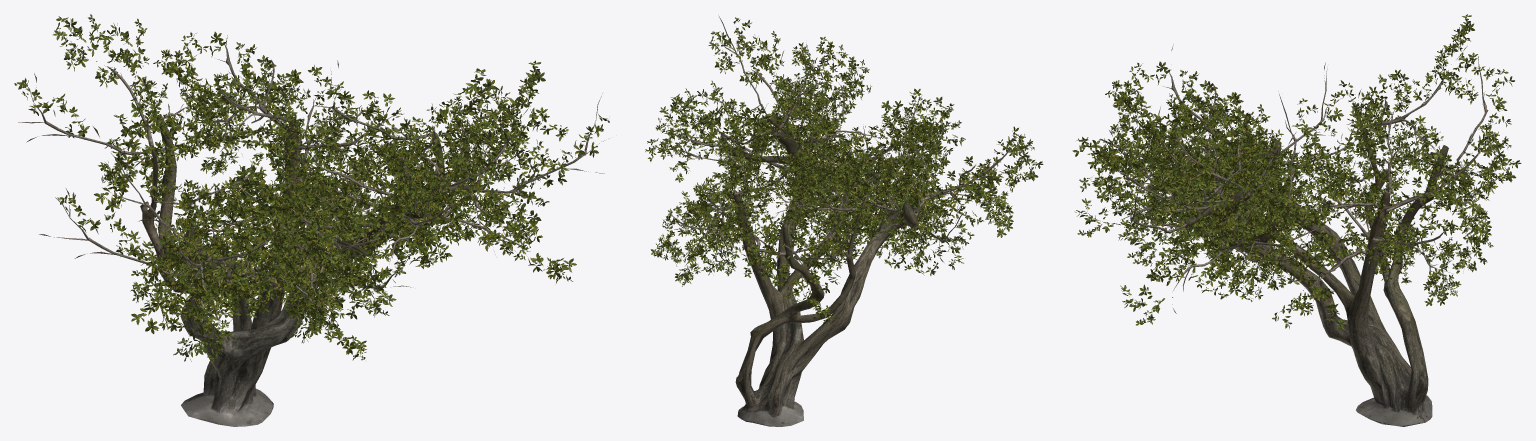
The model's file is canopyTree.glb.
3 views of the same model, side by side, from view 1: azimuth 30°, elevation 25°; view 2: azimuth 150°, elevation 25°; view 3: azimuth 270°, elevation 25° (orthographic). The views are drawn at different scales.
Parts seen in each view (by area): view 1: island_tree_02_LOD0; view 2: island_tree_02_LOD0; view 3: island_tree_02_LOD0.
Boxes of the visible parts, bbox=[...] form: island_tree_02_LOD0: bbox=[14, 14, 609, 426]; island_tree_02_LOD0: bbox=[645, 16, 1043, 426]; island_tree_02_LOD0: bbox=[1072, 14, 1521, 426].
Bounding box in the file's own units: 4.11 × 3.41 × 4.07.
3 materials, 3 textured.
